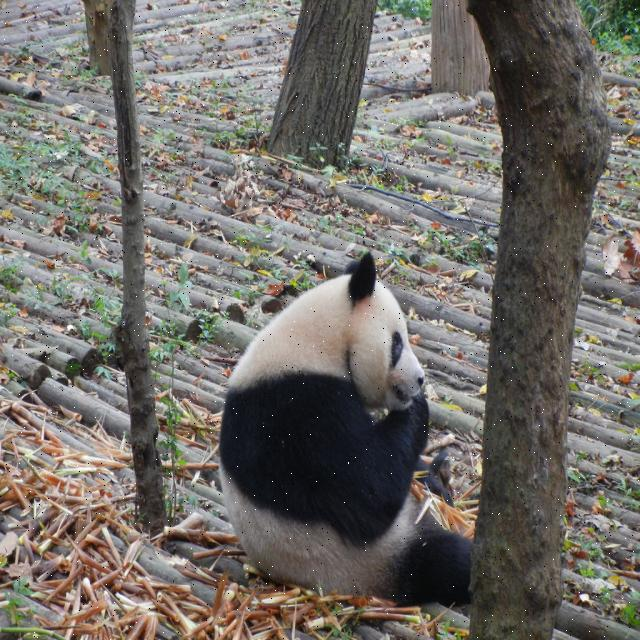panda: (219, 249, 479, 611)
